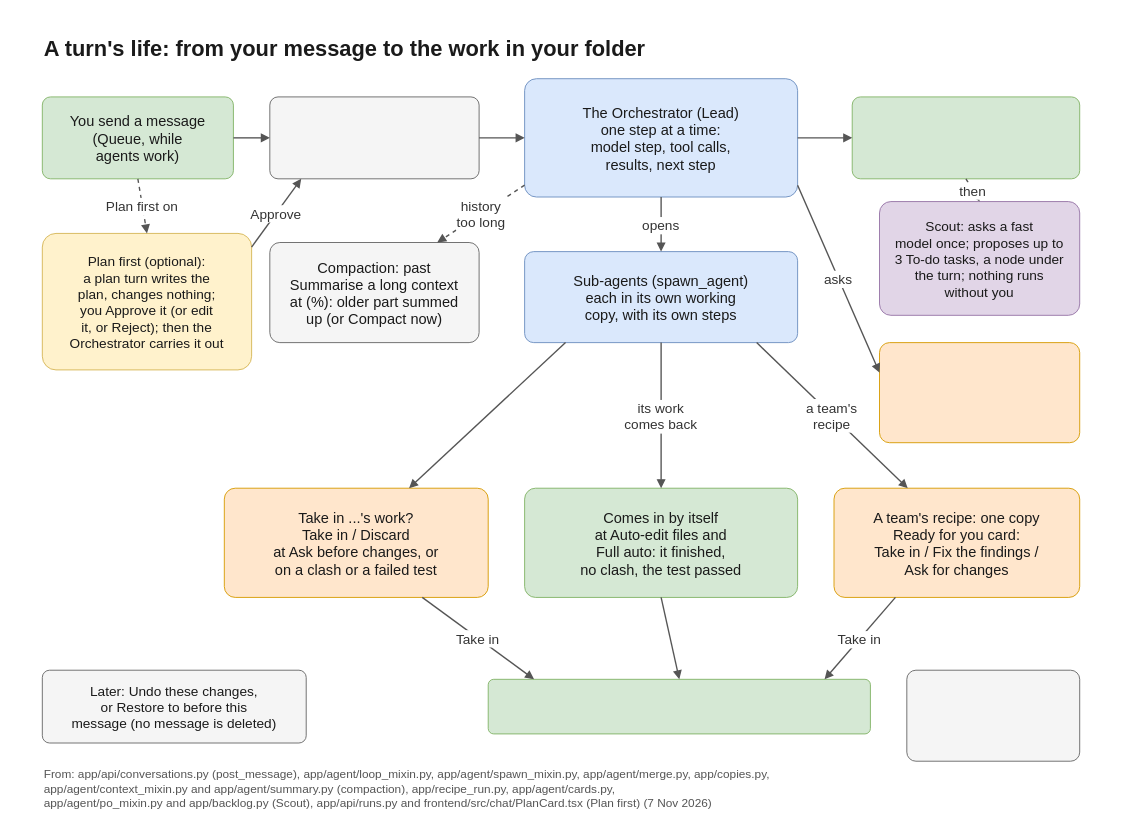
This 1122x831 diagram has some shape labels left out. The shapes that lost their labels are listed below. From the top down, each one's box as (x1, y1, x2, y2) in pixels, then its label:
(269, 96, 479, 179): The server records it and starts a run (one asyncio task)
(851, 96, 1080, 179): Its answer, and one line such as 2 agents · 3 files changed
(879, 342, 1080, 443): Needs you? A card. The run waits for your answer (Ready for you)
(487, 678, 870, 734): Your project folder
(906, 669, 1080, 761): Every step is recorded; the canvas draws the turn from that record
